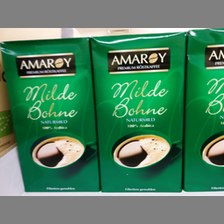coffee: (89, 30, 187, 192), (1, 37, 102, 192), (185, 28, 224, 195)
